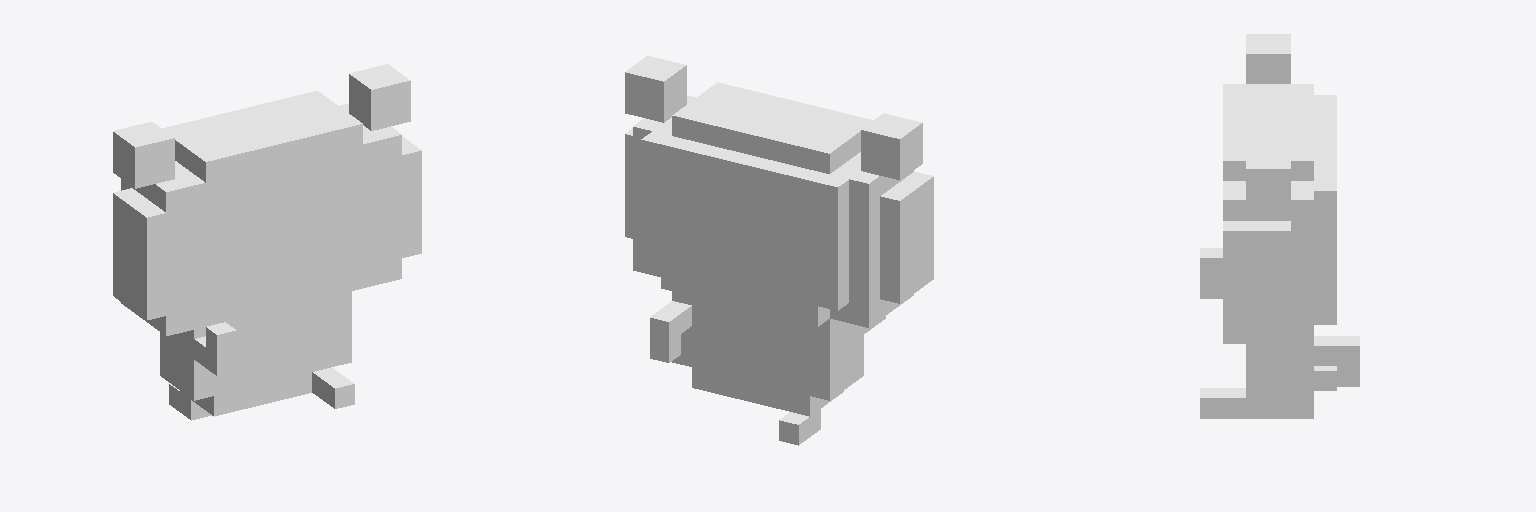
File: tanuki_run_3.obj
3 views of the same model, side by side, from view 1: azimuth 30°, elevation 25°; view 2: azimuth 150°, elevation 25°; view 3: azimuth 270°, elevation 25° (orthographic).
Parts seen in each view (by area): view 1: tanuki_run_3; view 2: tanuki_run_3; view 3: tanuki_run_3.
Boxes of the visible parts, box(x1,y1,x2,y2) form: tanuki_run_3: box(113, 64, 421, 420); tanuki_run_3: box(625, 56, 933, 445); tanuki_run_3: box(1200, 34, 1359, 418).
Size of the model in its own units: 14 by 15 by 7.